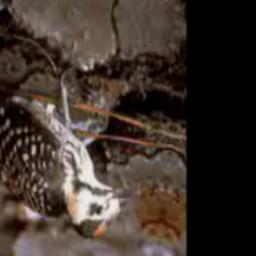Woodpecker: (0, 60, 161, 253)
